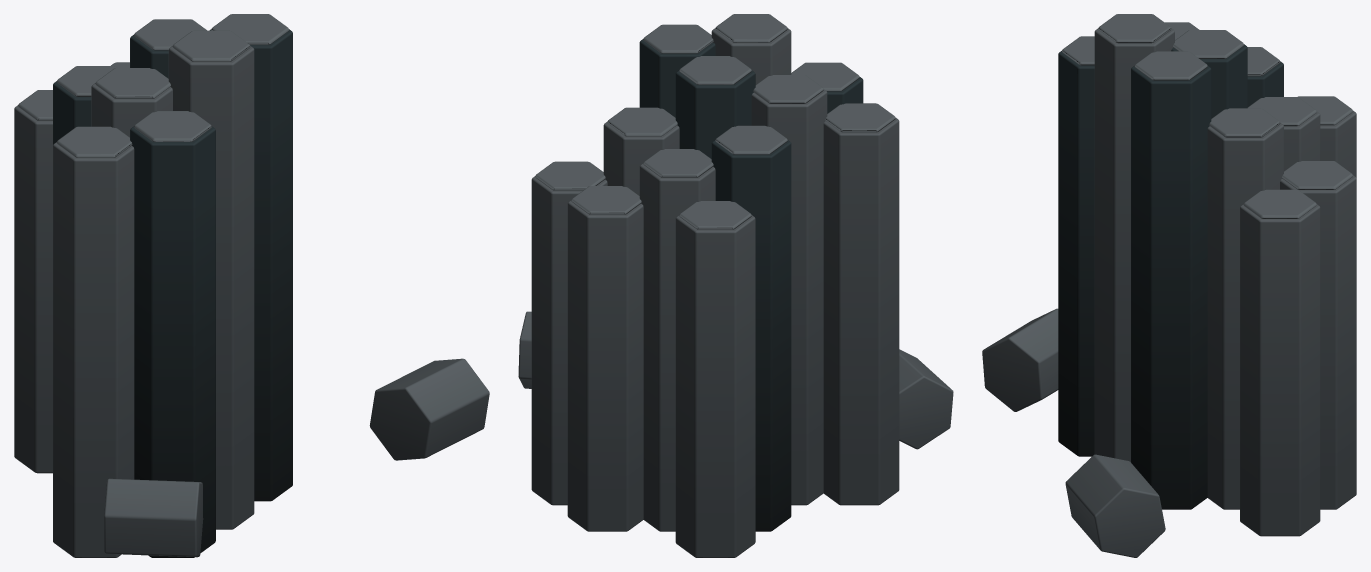
Rendered from basalt_columns.glb.
3 views of the same model, side by side, from view 1: azimuth 30°, elevation 25°; view 2: azimuth 150°, elevation 25°; view 3: azimuth 270°, elevation 25° (orthographic). The views are drawn at different scales.
Parts seen in each view (by area): view 1: basalt_columns; view 2: basalt_columns; view 3: basalt_columns.
Boxes of the visible parts, x1=… form: basalt_columns: x1=14, y1=14, x2=489, y2=557; basalt_columns: x1=518, y1=14, x2=953, y2=557; basalt_columns: x1=982, y1=14, x2=1356, y2=557.
Size of the model in its own units: 4.68 by 5.02 by 3.85.
1 material, 1 textured.
